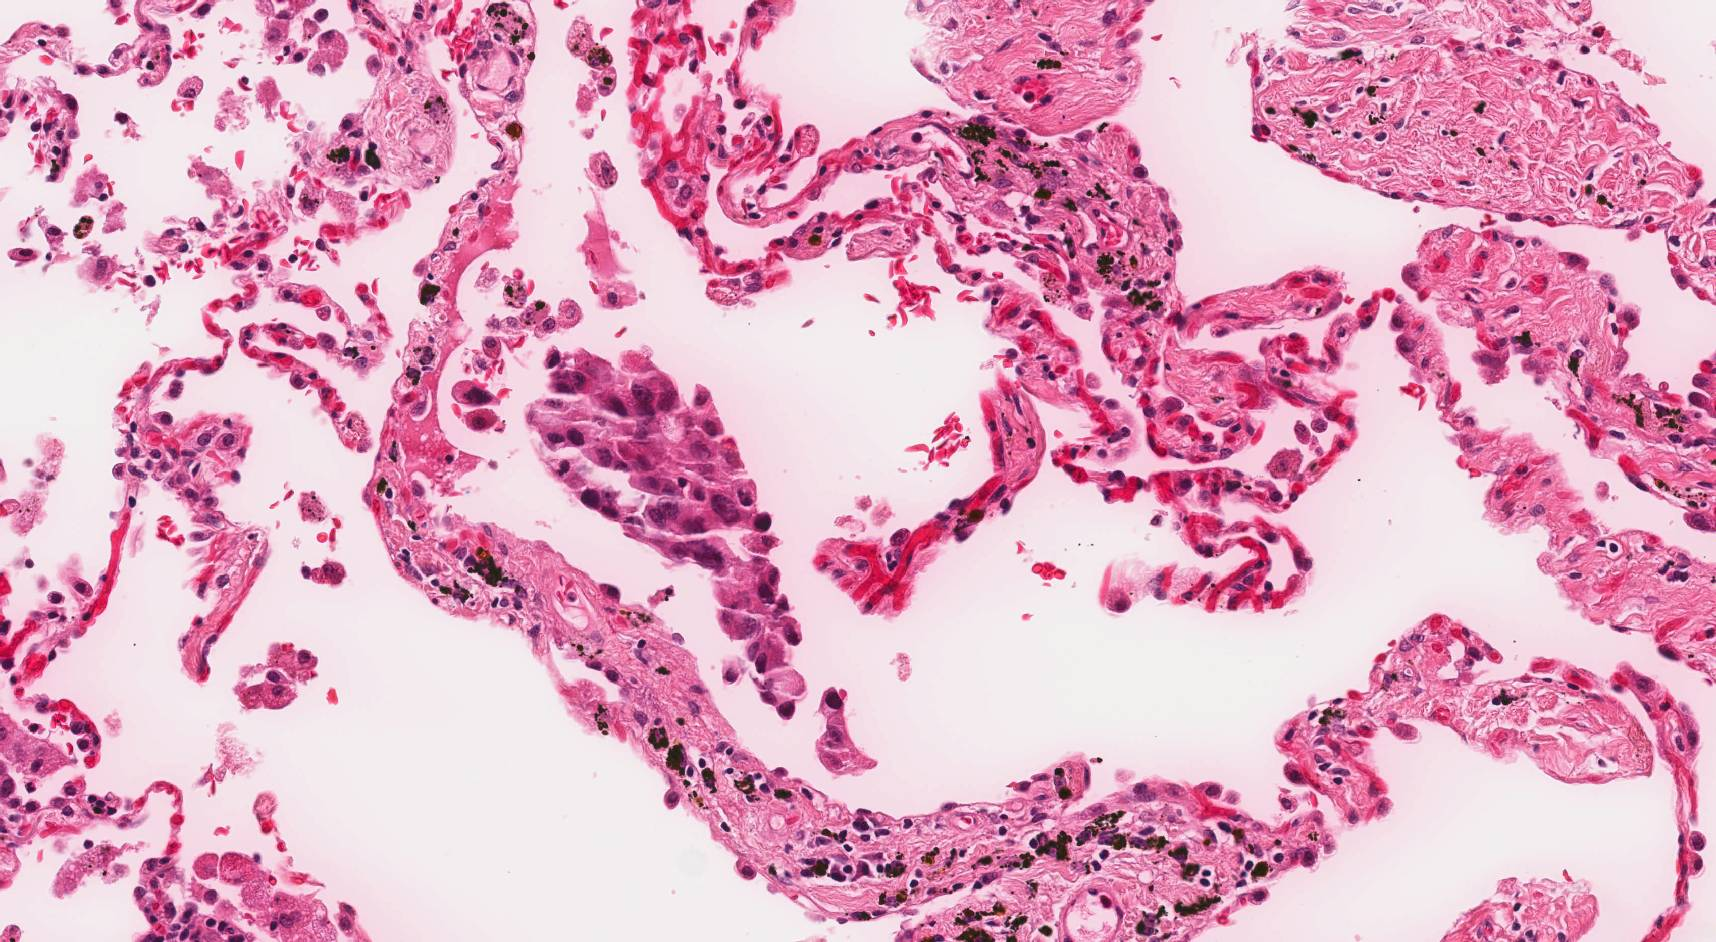stas: (529, 351, 805, 727), (813, 685, 877, 774)
